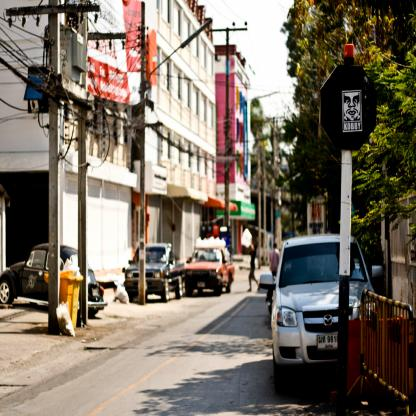Car: (260, 234, 385, 388), (0, 240, 106, 318), (125, 242, 186, 301), (187, 239, 234, 294)
